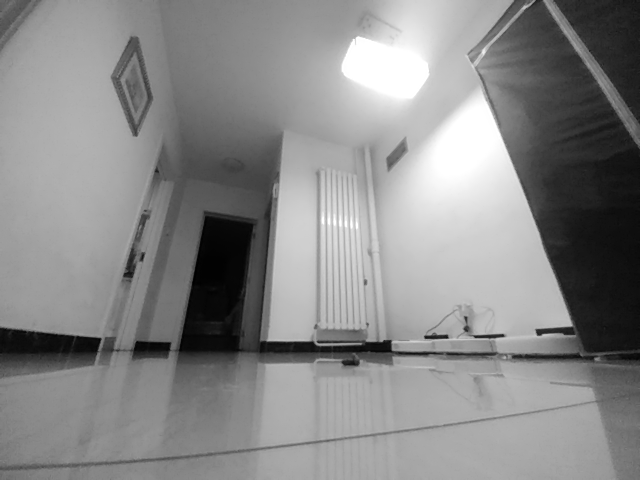pet feces: (340, 351, 361, 368)
